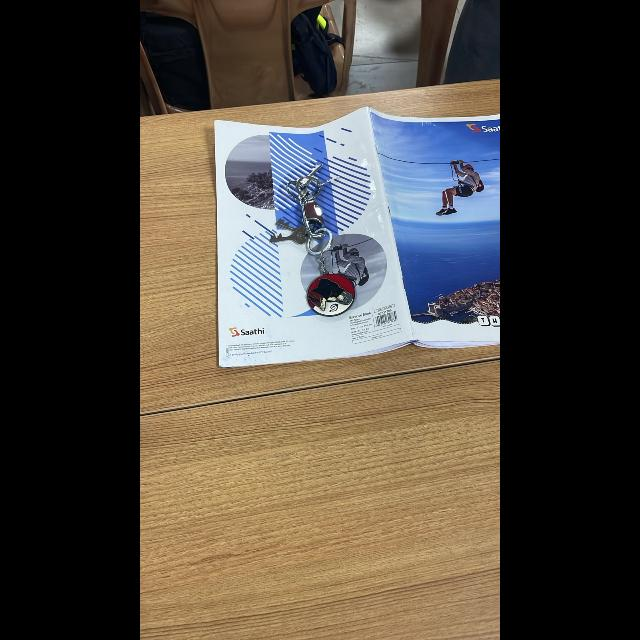keys: (264, 150, 388, 348)
